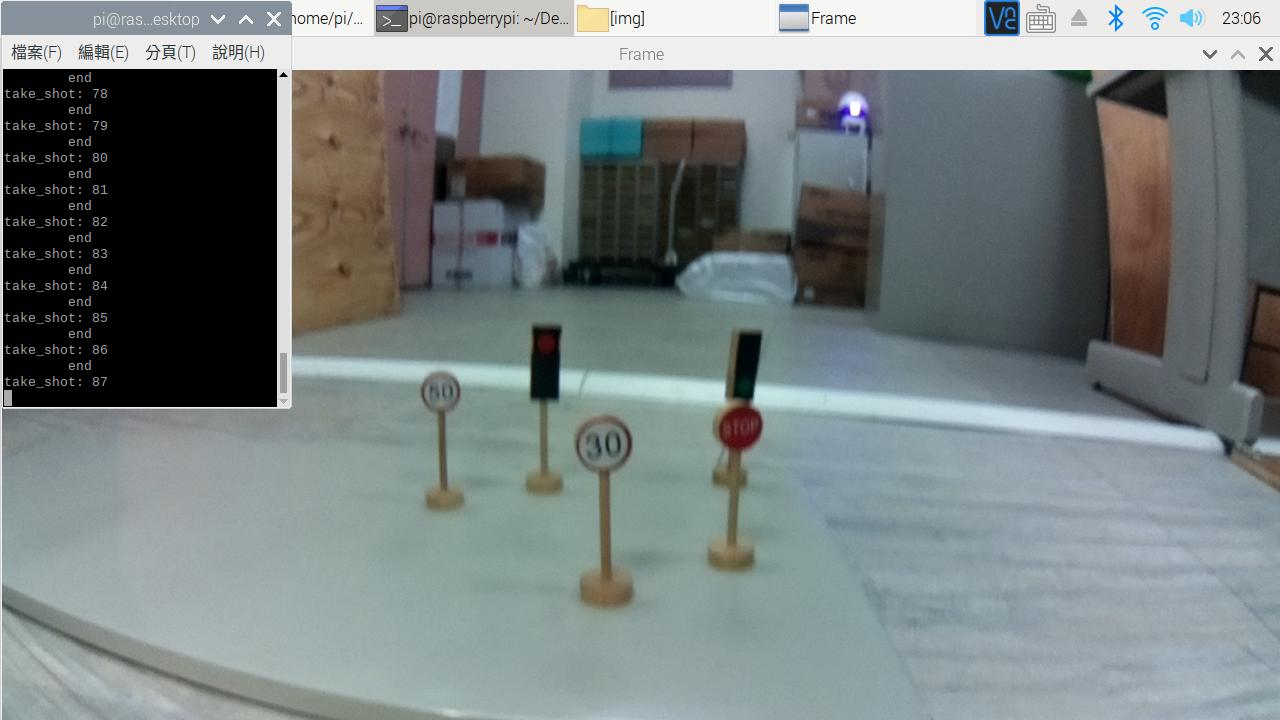Green: (725, 319, 764, 402)
Red: (526, 320, 564, 402)
Speed30: (570, 417, 640, 478)
Speed50: (417, 366, 471, 419)
Stop: (708, 404, 770, 453)
